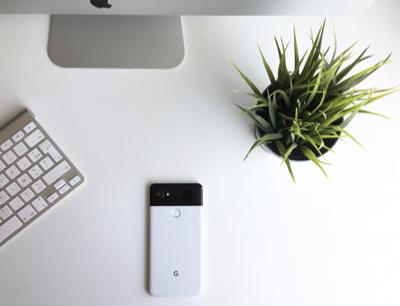Mobile Phone: (147, 181, 203, 296)
